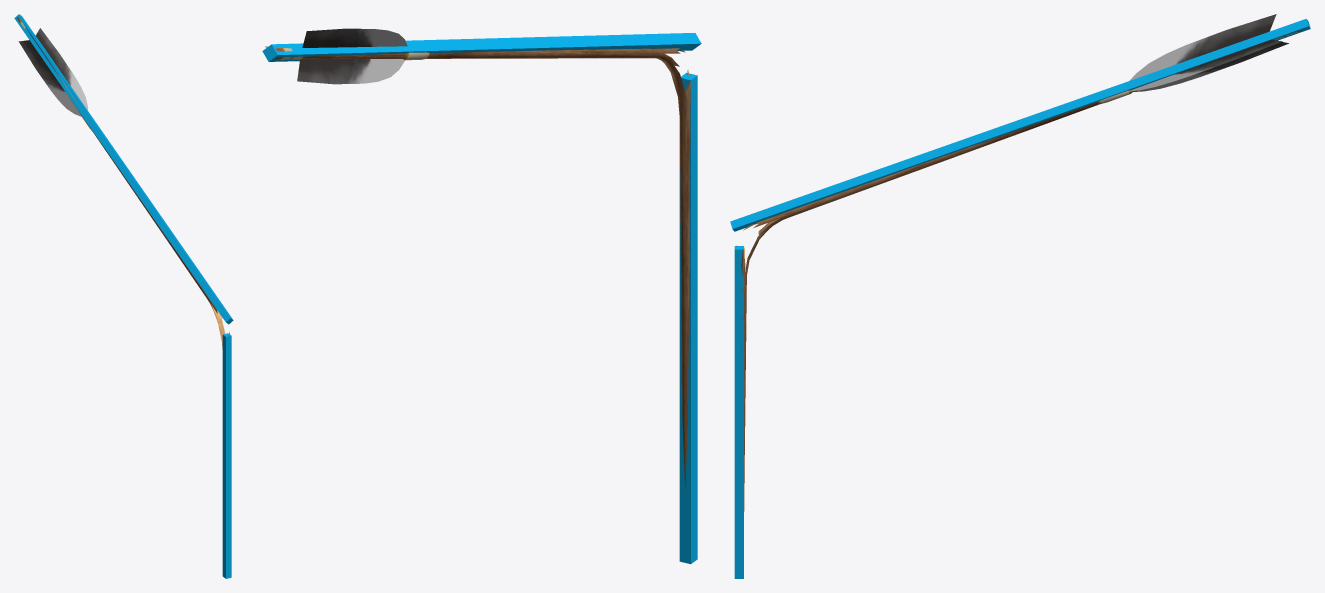
The model's file is JWC_Arrow_A_04.fbx.
3 renders of one model, left to right at view 1: azimuth 30°, elevation 25°; view 2: azimuth 150°, elevation 25°; view 3: azimuth 270°, elevation 25°, orthographic. The views are drawn at different scales.
Visible parts, largest first — view 1: C_JWC_Arrow_A_04_001, JWC_Arrow_A_04, C_JWC_Arrow_A_04; view 2: JWC_Arrow_A_04, C_JWC_Arrow_A_04, C_JWC_Arrow_A_04_001; view 3: JWC_Arrow_A_04, C_JWC_Arrow_A_04_001, C_JWC_Arrow_A_04.
Part boxes in pixels (x1,y1,x2,y2): C_JWC_Arrow_A_04_001: (14, 14, 233, 324); JWC_Arrow_A_04: (17, 17, 229, 349); C_JWC_Arrow_A_04: (222, 333, 231, 578); JWC_Arrow_A_04: (265, 28, 690, 489); C_JWC_Arrow_A_04: (679, 72, 697, 564); C_JWC_Arrow_A_04_001: (262, 33, 701, 61); JWC_Arrow_A_04: (736, 14, 1301, 545); C_JWC_Arrow_A_04_001: (730, 19, 1310, 231); C_JWC_Arrow_A_04: (734, 246, 743, 578).
Size of the model in its own units: 0.0394 by 0.7242 by 0.6818.
